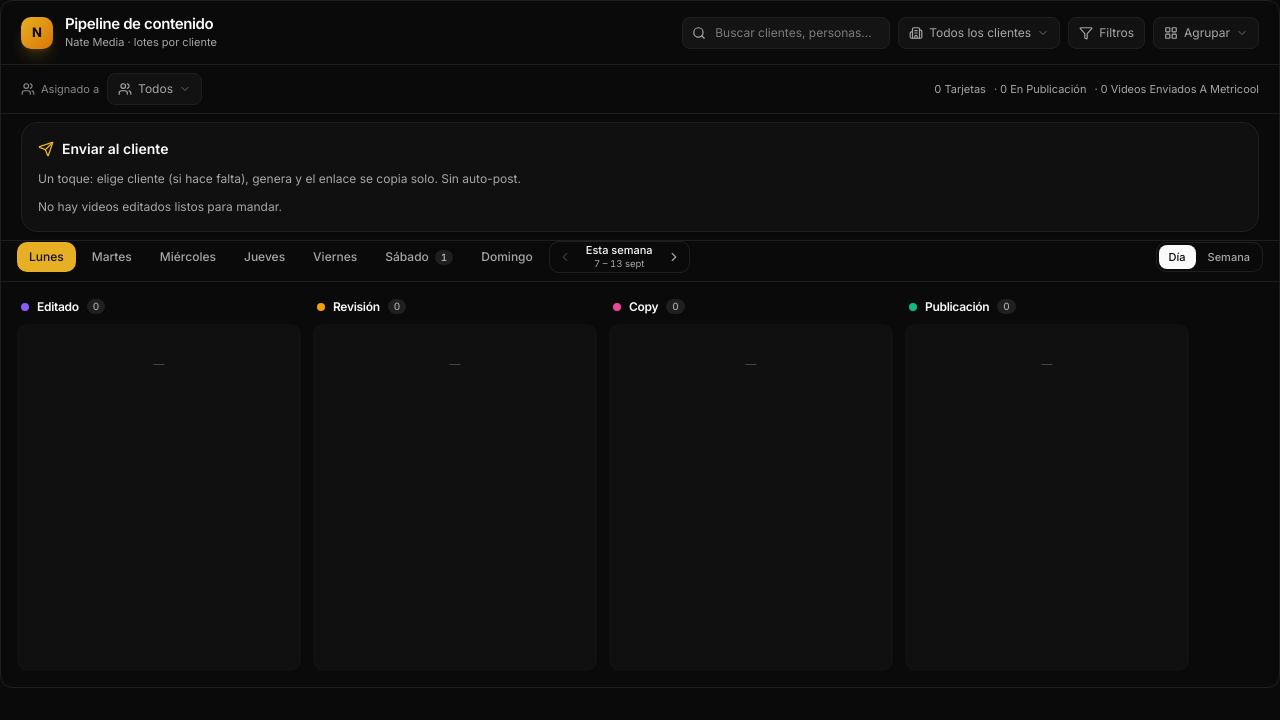
Test: EntregasBoard — la operación es por día › lo que se publica el lunes se entregó el sábado
Expected: the text "Nora Fitness" is not shown
Click the button "Sábado 1": (419, 257) [373,242,465,272]
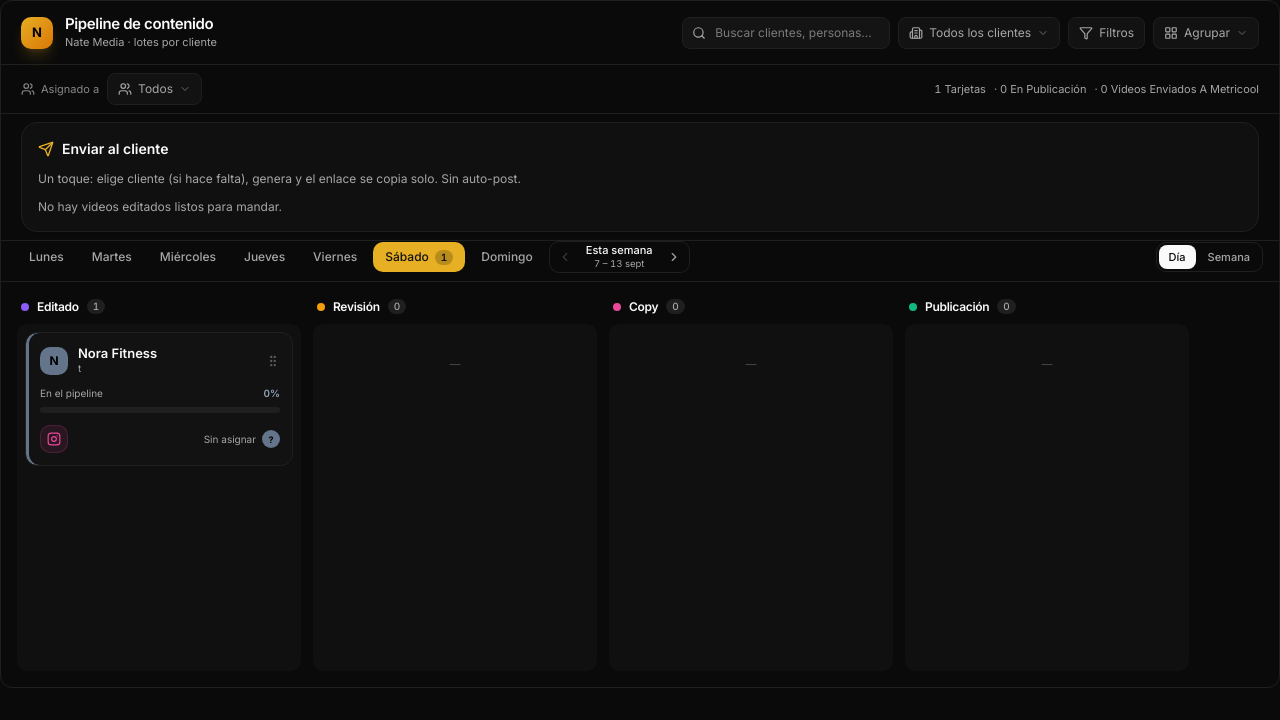
Now the text "Nora Fitness" is shown, box [78,345,157,361]
